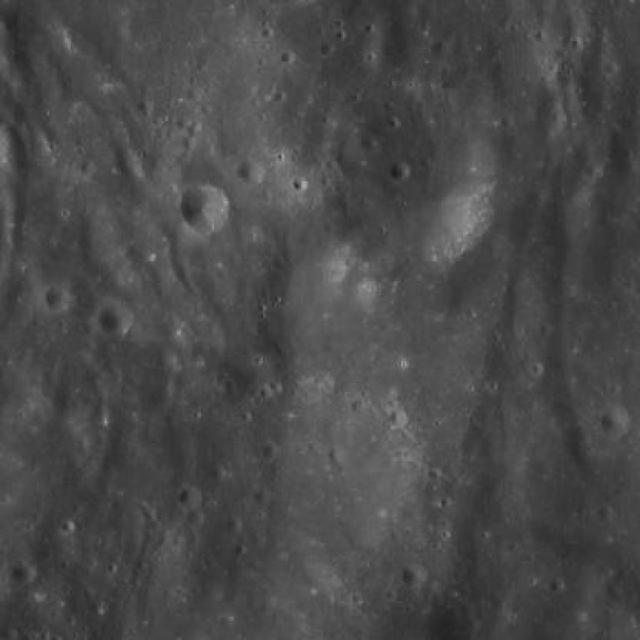crater: (335, 91, 508, 264), (180, 184, 232, 236), (99, 302, 133, 336), (240, 158, 269, 188), (601, 408, 630, 437), (45, 284, 73, 312), (403, 561, 429, 587), (16, 562, 38, 584), (180, 486, 202, 508), (393, 162, 413, 182), (521, 184, 541, 204), (226, 514, 245, 534), (596, 506, 615, 525), (188, 508, 206, 527), (392, 408, 410, 427), (362, 135, 380, 154), (256, 488, 273, 506), (328, 446, 346, 463), (263, 444, 280, 461), (320, 42, 338, 58), (186, 86, 203, 102), (294, 178, 312, 193), (352, 398, 368, 414), (549, 578, 565, 594)
